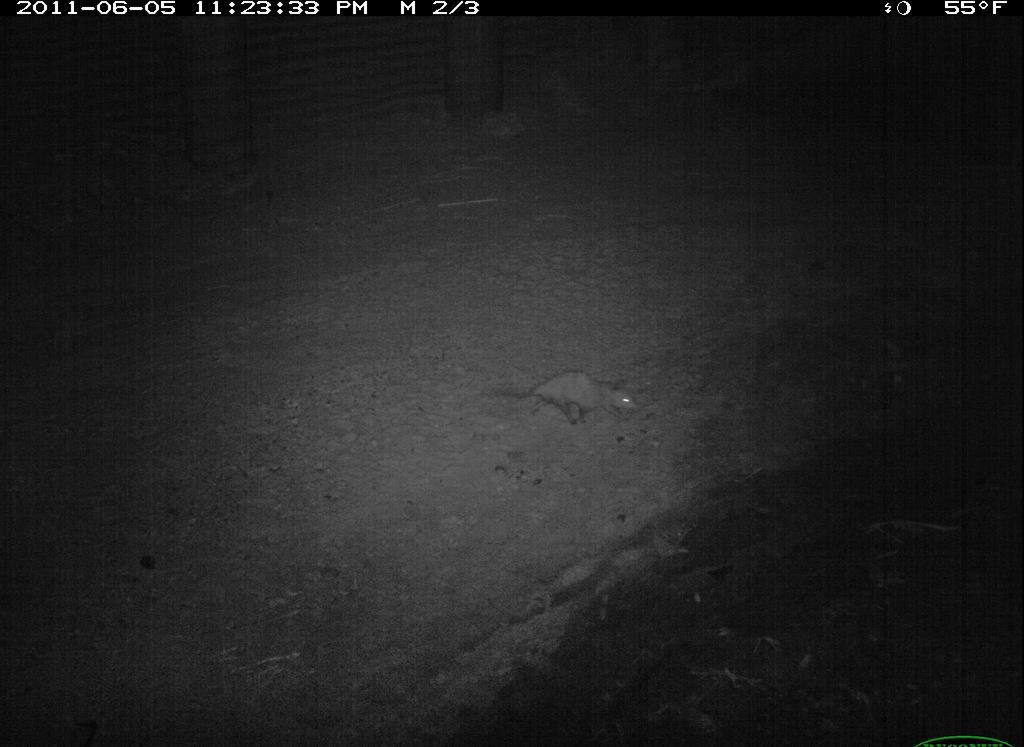opossum: (486, 364, 648, 436)
